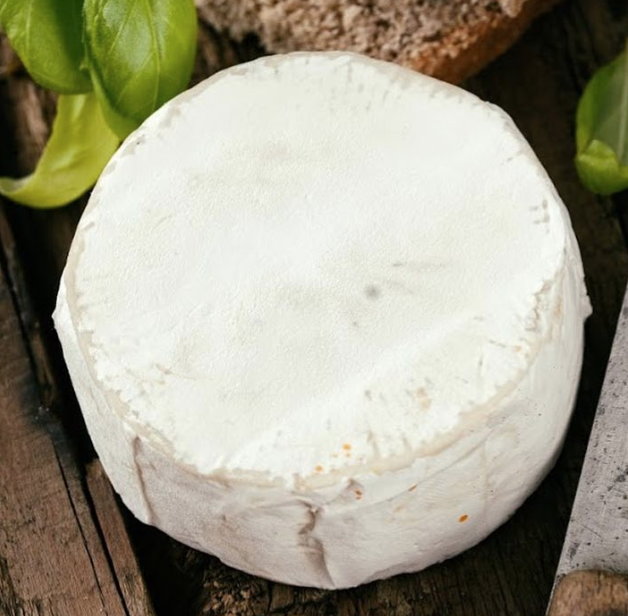camembert: (49, 48, 594, 591)
